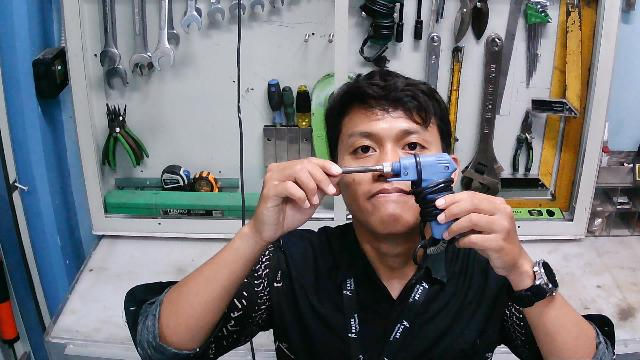solder_electrical: (317, 151, 459, 269)
